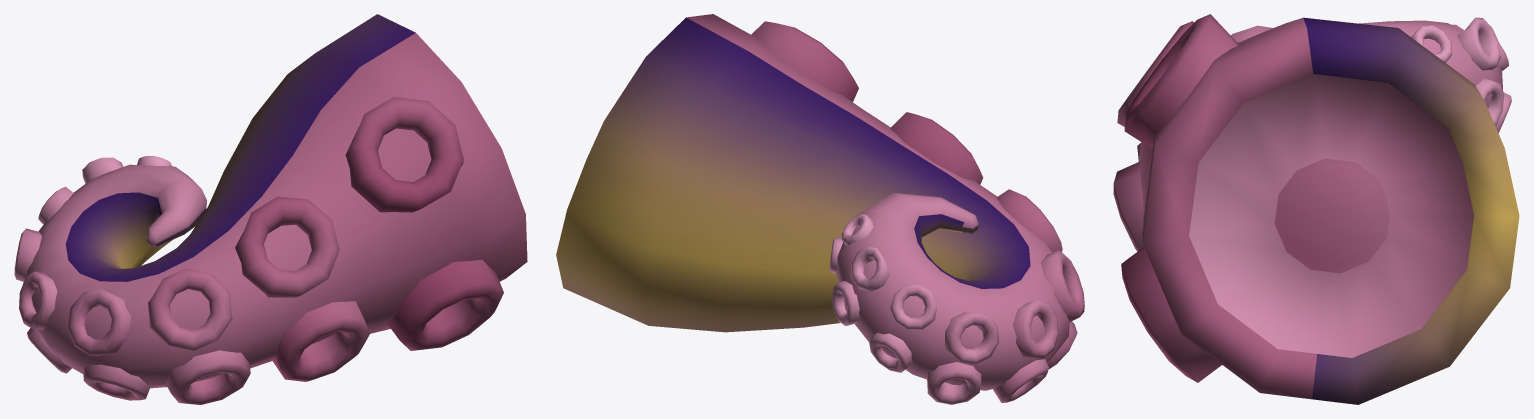
File: Fixed_Item_Tentacle_Purple_ver1.fbx
3 views of the same model, side by side, from view 1: azimuth 30°, elevation 25°; view 2: azimuth 150°, elevation 25°; view 3: azimuth 270°, elevation 25° (orthographic). The views are drawn at different scales.
Visible parts, largest first — view 1: Tentacle purple; view 2: Tentacle purple; view 3: Tentacle purple.
Part boxes in pixels (bbox=[...]): Tentacle purple: bbox=[14, 14, 527, 404]; Tentacle purple: bbox=[556, 14, 1084, 404]; Tentacle purple: bbox=[1113, 14, 1519, 404].
Size of the model in its own units: 354 by 216 by 221.
Materials: 2 (2 with a texture image).
